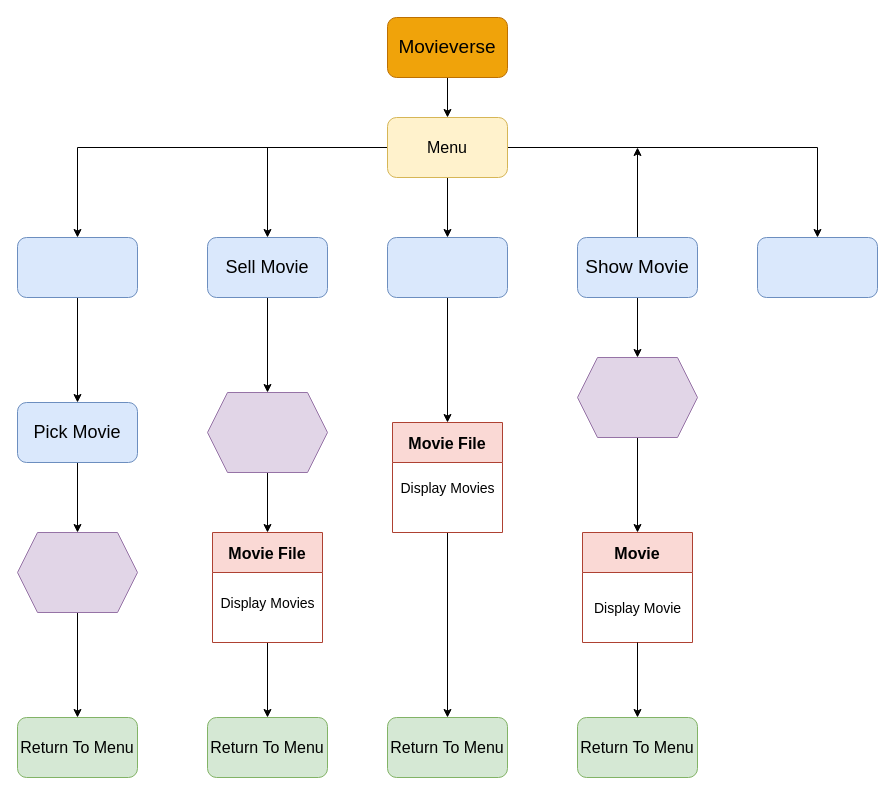
This 895x795 diagram has some shape labels left out. The box of each missing label's shape, as (x1, y1, x2, y2) in pixels:
Buy Movie: (16, 236, 138, 298)
Exit: (756, 236, 878, 298)
Input Movie Details: (206, 392, 328, 472)
Input Movie ID: (576, 356, 698, 438)
Remove Movie Out Of List: (16, 532, 138, 612)
View Movies: (386, 236, 508, 298)
